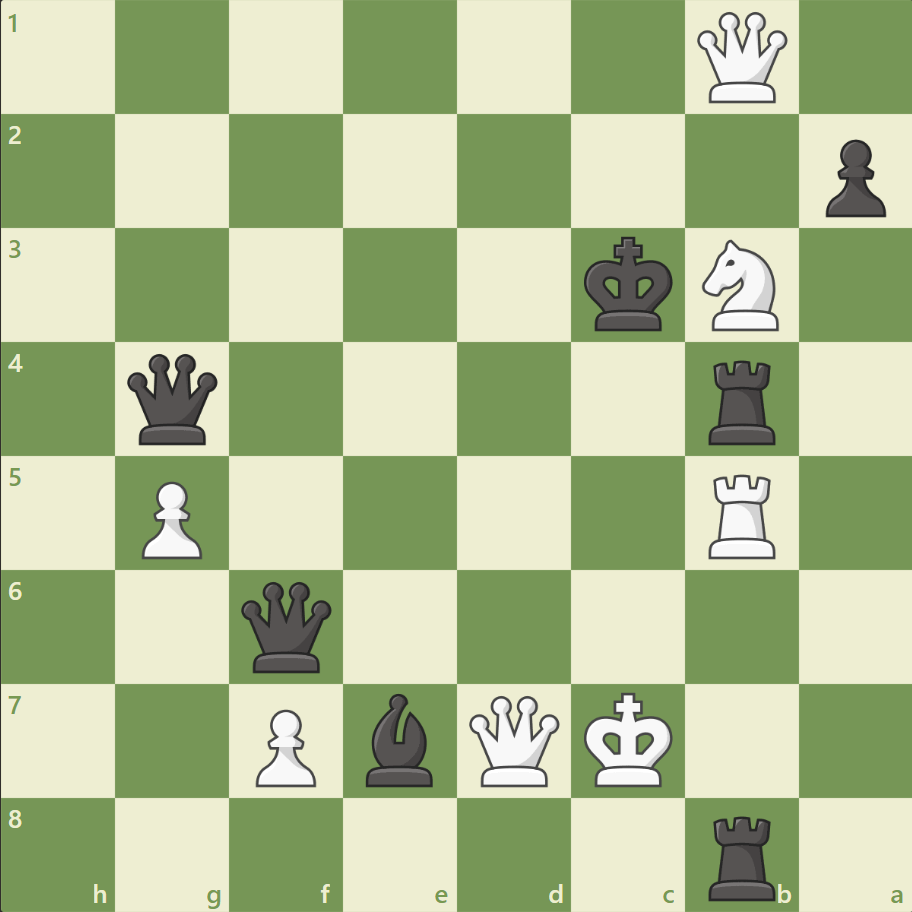K: (579, 685, 679, 793)
N: (692, 234, 789, 337)
P: (247, 700, 322, 791), (133, 473, 208, 564)
Q: (464, 690, 563, 789), (691, 9, 790, 108)
R: (700, 466, 783, 563)
b: (358, 687, 442, 790)
k: (579, 231, 679, 339)
p: (815, 132, 889, 223)
q: (237, 576, 336, 676), (124, 349, 223, 449)
r: (700, 806, 783, 904), (700, 352, 783, 449)
